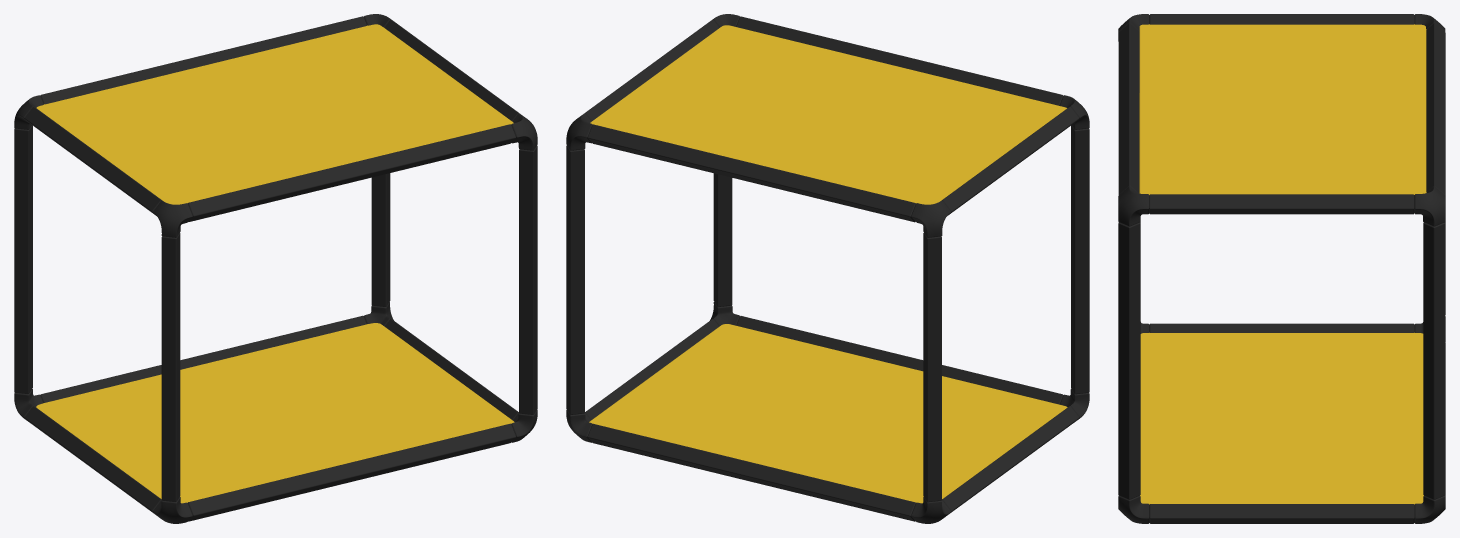
The picture shows the model from 3 angles, left to right: view 1: azimuth 30°, elevation 25°; view 2: azimuth 150°, elevation 25°; view 3: azimuth 270°, elevation 25°; orthographic projection. The views are drawn at different scales.
Parts seen in each view (by area): view 1: 479x329x374; view 2: 479x329x374; view 3: 479x329x374.
Boxes of the visible parts, <box> form: 479x329x374: <box>14,14,537,523</box>; 479x329x374: <box>566,14,1089,523</box>; 479x329x374: <box>1118,14,1445,523</box>.
Size of the model in its own units: 0.5567 by 0.4516 by 0.4063.
